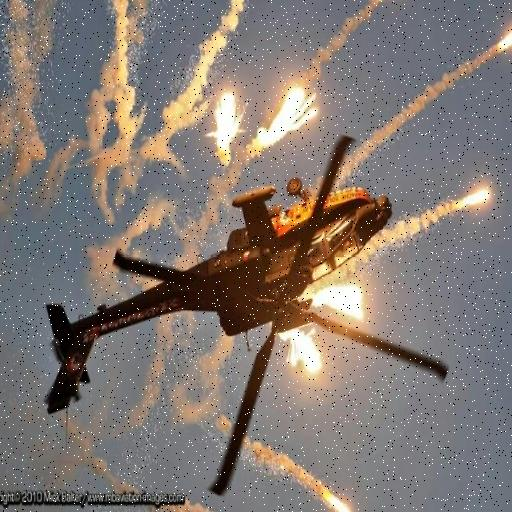helicopter: (43, 141, 453, 495)
